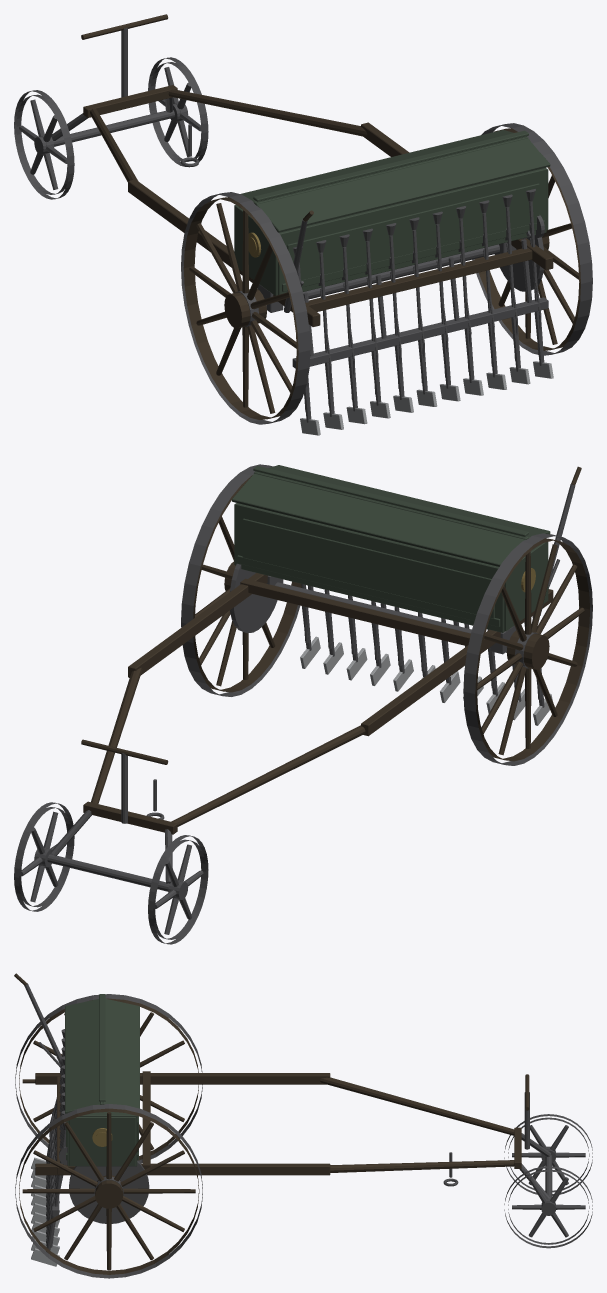
Rendered from seed-drill.glb.
3 renders of one model, top to bottom at view 1: azimuth 30°, elevation 25°; view 2: azimuth 150°, elevation 25°; view 3: azimuth 270°, elevation 25°, orthographic. The views are drawn at different scales.
Parts seen in each view (by area): view 1: SeedBox_LidRear, SeedBox_RearPanel, SeedBox_Body, WheelL_Tyre, WheelR_Tyre, WheelL_Felloe, CrossRail_Rear, CoulterBar, SeedBox_LidFront, DrawbarShaft, SeedBox_Ridge, FrameRail.001 (+16 smaller); view 2: SeedBox_FrontPanel, SeedBox_LidFront, SeedBox_Body, WheelL_Tyre, WheelL_Felloe, WheelR_Tyre, CrossRail_Front, SeedBox_LidRear, FrameRail, FrameRail.001, SeedBox_FrontBatten, DrawbarShaft.001 (+13 smaller); view 3: SeedBox_LidFront, SeedBox_LidRear, FrameRail, SeedBox_End, FrameRail.001, DriveGearRing, WheelR_Tyre, WheelR_Felloe, DrawbarShaft.001, DrawbarShaft, WheelL_Tyre, WheelL_Felloe (+8 smaller).
Boxes of the visible parts, x1,y1,x2,y2 form: SeedBox_LidRear: (254,136,550,232); SeedBox_RearPanel: (287,183,539,280); SeedBox_Body: (239,168,546,294); WheelL_Tyre: (181,192,310,424); WheelR_Tyre: (472,123,592,355); WheelL_Felloe: (183,197,298,419); CrossRail_Rear: (305,247,532,311); CoulterBar: (292,297,548,368); SeedBox_LidFront: (240,130,528,204); DrawbarShaft: (168,89,367,136); SeedBox_Ridge: (253,130,528,201); FrameRail.001: (128,179,320,326); SeedBox_FrontPanel: (242,518,494,618); SeedBox_LidFront: (232,471,528,566); SeedBox_Body: (235,503,546,632); WheelL_Tyre: (463,533,592,765); WheelL_Felloe: (475,538,589,761); WheelR_Tyre: (181,464,300,696); CrossRail_Front: (240,578,486,648); SeedBox_LidRear: (254,465,550,539); FrameRail: (128,573,267,677); FrameRail.001: (361,589,553,736); SeedBox_FrontBatten: (237,555,500,626); DrawbarShaft.001: (171,725,365,826); SeedBox_LidFront: (100,999,139,1108); SeedBox_LidRear: (65,999,104,1113); FrameRail: (35,1163,330,1175); SeedBox_End: (69,1117,135,1165); FrameRail.001: (35,1073,330,1084); DriveGearRing: (69,1161,149,1223); WheelR_Tyre: (15,1104,202,1278); WheelR_Felloe: (19,1108,199,1274); DrawbarShaft.001: (319,1077,514,1135); DrawbarShaft: (330,1160,514,1172); WheelL_Tyre: (15,994,202,1163); WheelL_Felloe: (19,998,198,1160).
Bounding box in the file's own units: 2.11 × 1.61 × 4.32.
